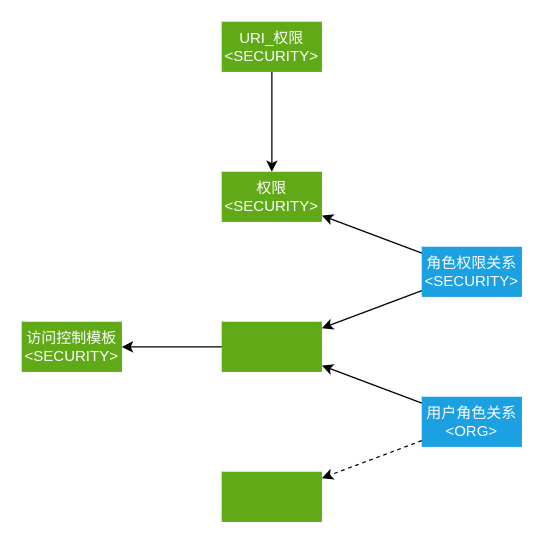
Image size: 543x543. Some labels were removed from this diagram. Each missing label, with the centre of its shape:
"用户 <UC>" goes at pixel 271 496.
"角色 <SECURITY>" goes at pixel 271 346.
